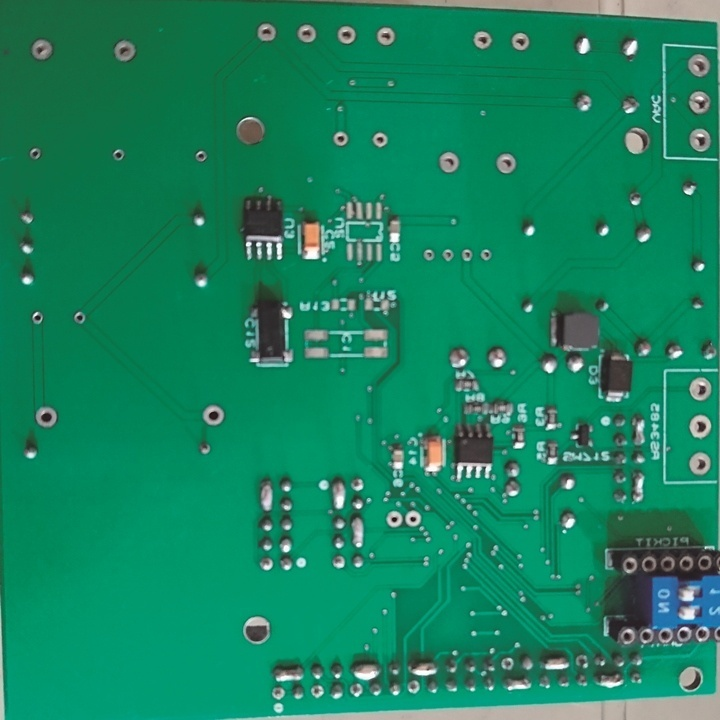F: (684, 52, 713, 79), (685, 89, 713, 116), (685, 126, 712, 154), (111, 36, 137, 65), (33, 403, 59, 431), (687, 375, 713, 403), (687, 412, 712, 441), (29, 36, 55, 63), (493, 151, 519, 178), (687, 450, 712, 477), (437, 149, 460, 178), (201, 403, 226, 429), (295, 21, 319, 46), (255, 20, 279, 44), (471, 29, 494, 51), (336, 23, 357, 47), (510, 29, 530, 54), (375, 26, 397, 48), (401, 507, 421, 530), (370, 129, 389, 151), (258, 555, 275, 575), (330, 553, 347, 573), (386, 509, 402, 530), (18, 209, 36, 226), (404, 679, 421, 697), (196, 440, 213, 457), (333, 130, 350, 147), (348, 682, 364, 700), (350, 475, 365, 494), (576, 652, 590, 672), (27, 146, 43, 162), (499, 655, 514, 672), (271, 684, 286, 700), (73, 310, 87, 327), (310, 683, 324, 699), (479, 247, 493, 263), (111, 147, 125, 162), (30, 312, 45, 326), (193, 149, 207, 163), (422, 248, 436, 262), (441, 247, 453, 263), (461, 247, 472, 263)
P: (350, 660, 384, 682), (630, 411, 648, 449), (273, 664, 306, 684), (630, 466, 646, 505), (259, 476, 276, 512), (540, 654, 573, 672), (408, 661, 441, 678), (501, 677, 535, 693), (593, 672, 624, 689), (331, 478, 346, 512), (351, 513, 365, 549)
